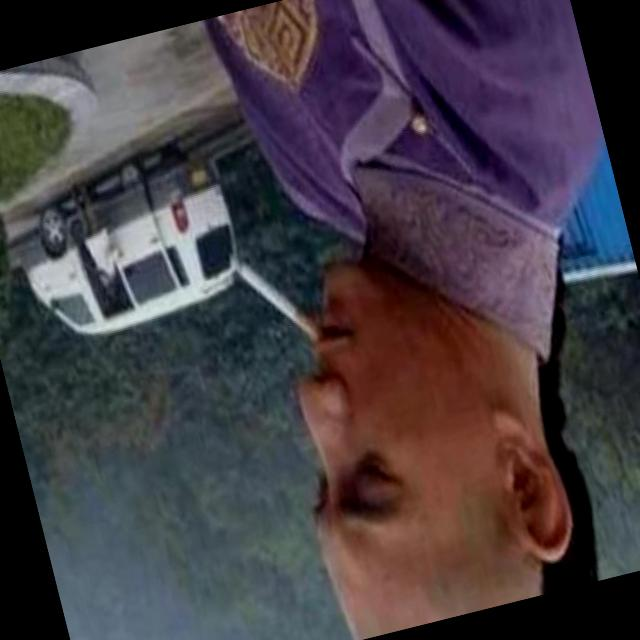cigarette: (222, 233, 334, 371)
